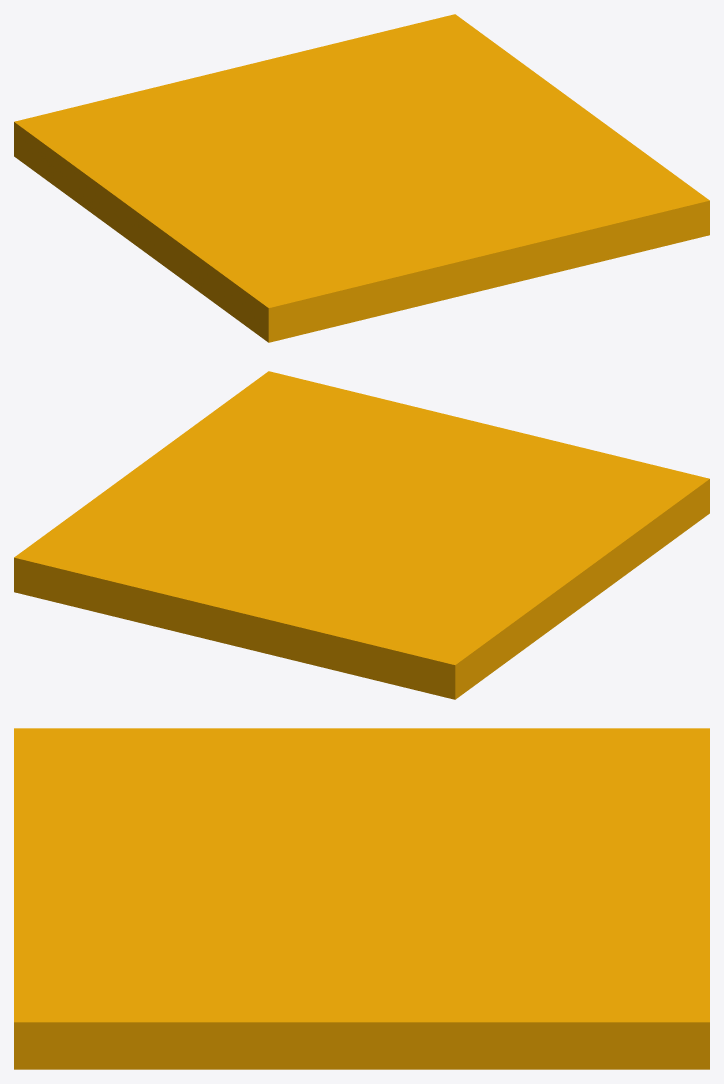
File: arm_base_link.dae
3 renders of one model, top to bottom at view 1: azimuth 30°, elevation 25°; view 2: azimuth 150°, elevation 25°; view 3: azimuth 270°, elevation 25°, orthographic. The views are drawn at different scales.
Parts seen in each view (by area): view 1: mesh; view 2: mesh; view 3: mesh.
Part boxes in pixels (x1=…): mesh: x1=14, y1=14, x2=709, y2=342; mesh: x1=14, y1=371, x2=709, y2=699; mesh: x1=14, y1=728, x2=709, y2=1069.
Bounding box in the file's own units: 0.16 × 0.16 × 0.012.
